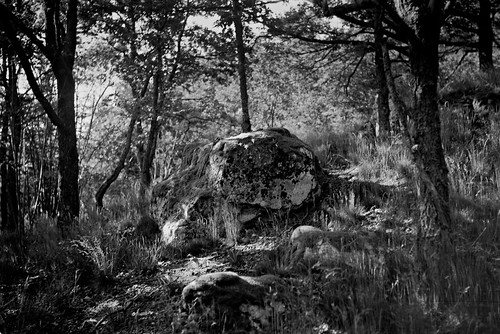trash: (122, 117, 406, 296)
tree: (70, 1, 215, 201), (371, 1, 487, 224), (1, 1, 111, 235), (325, 1, 412, 140), (197, 1, 282, 134)
